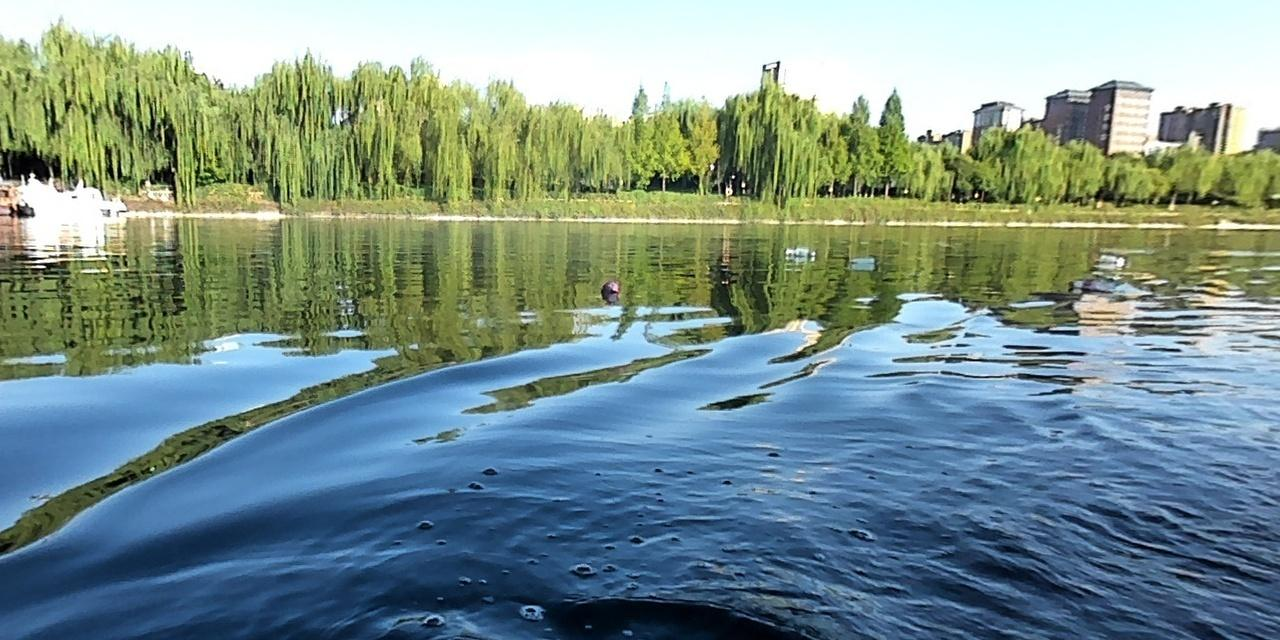bottle: (600, 275, 622, 304), (783, 242, 817, 259), (1093, 252, 1128, 267), (845, 254, 876, 263)
